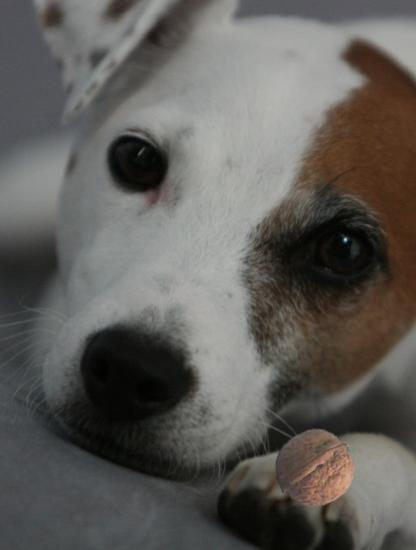Walnut: (276, 429, 355, 508)
